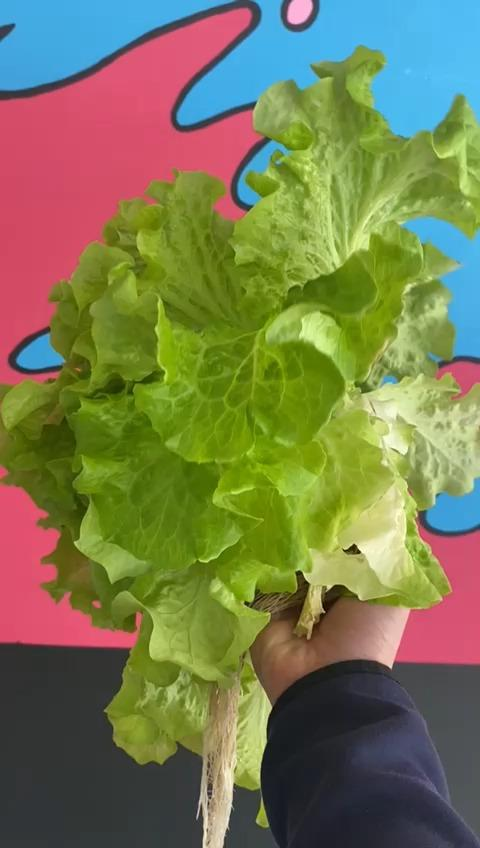Healthy: (0, 52, 480, 825)
